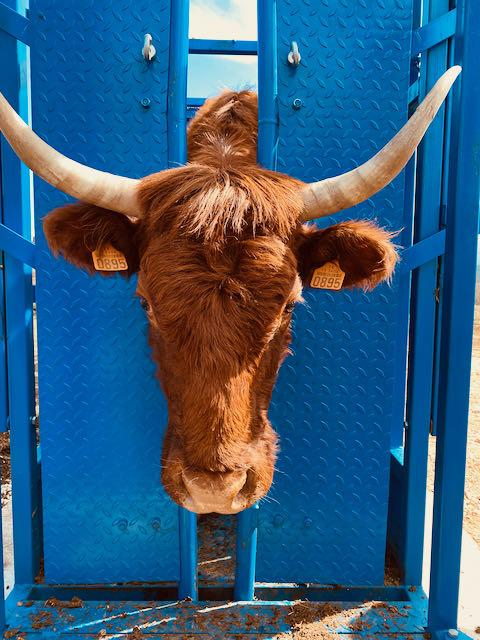muzzles: (150, 460, 275, 520)
